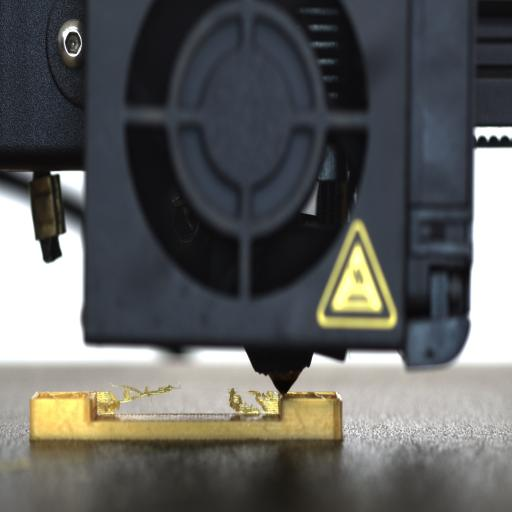stringing: (93, 384, 187, 414), (226, 386, 280, 418)
